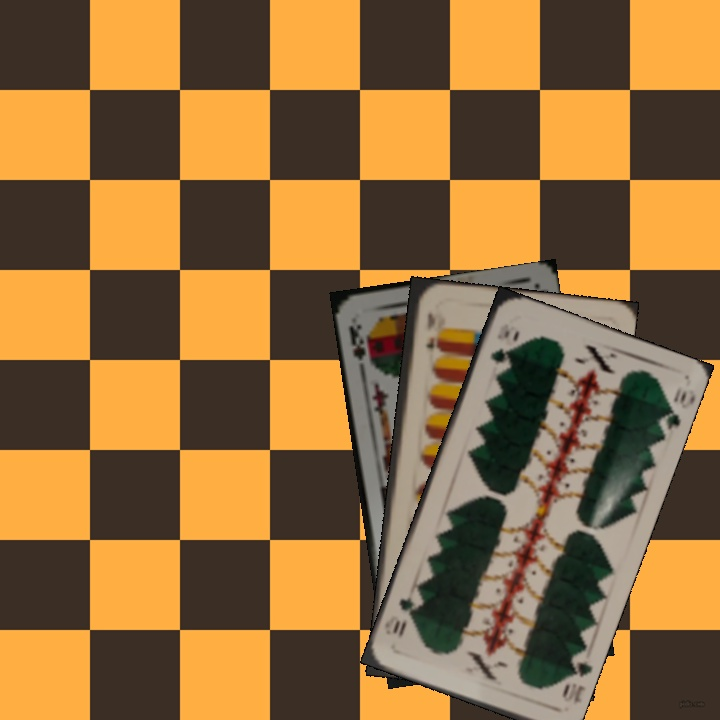E10: (421, 308, 438, 352)
G10: (558, 650, 594, 706), (486, 326, 513, 366)
SK: (345, 320, 375, 368)
